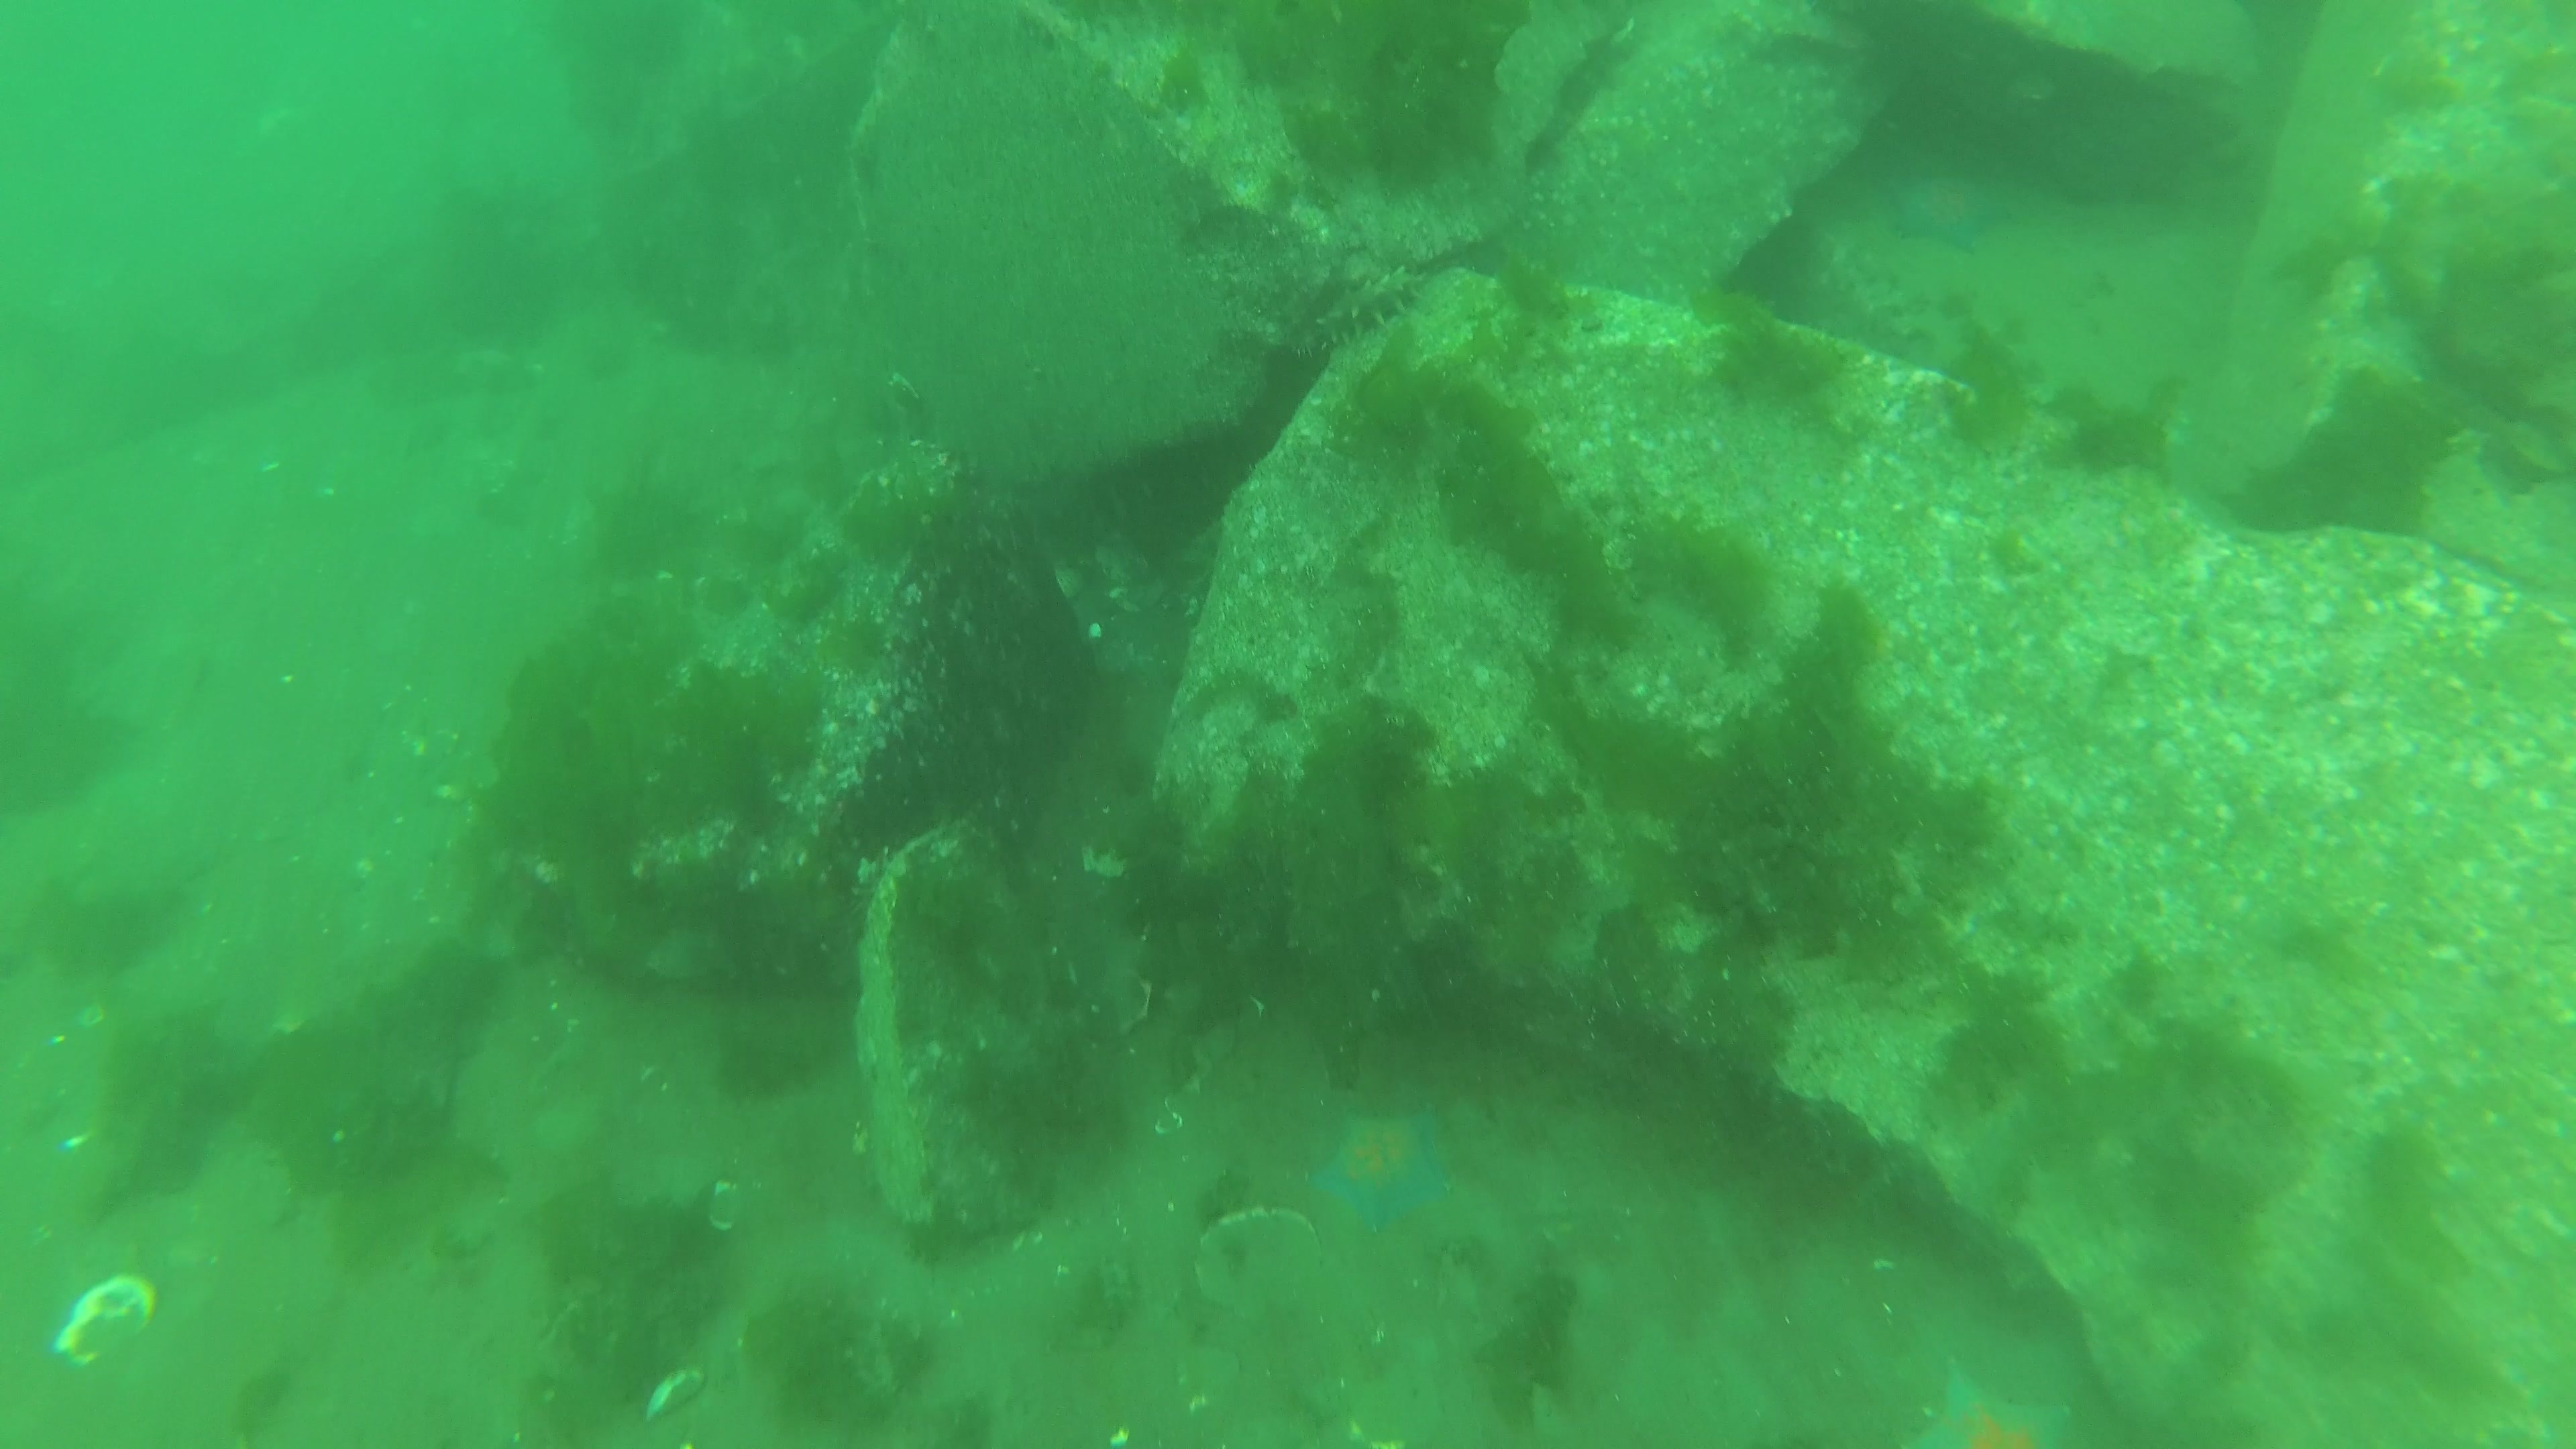holothurian: (1284, 262, 1430, 361)
scallop: (1194, 1207, 1322, 1323), (53, 1272, 157, 1369)
starfish: (1320, 1120, 1456, 1233), (1916, 1355, 2074, 1449), (1884, 172, 2008, 249)
